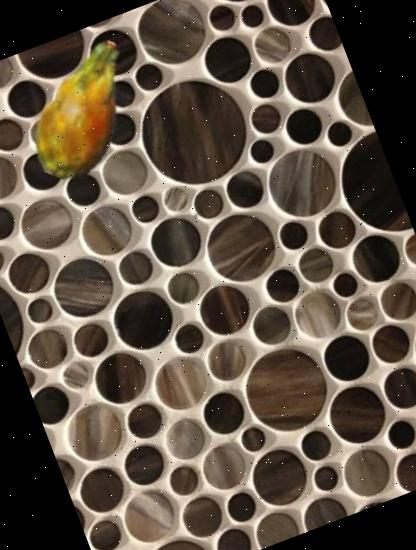Cactus: (0, 15, 179, 204)
